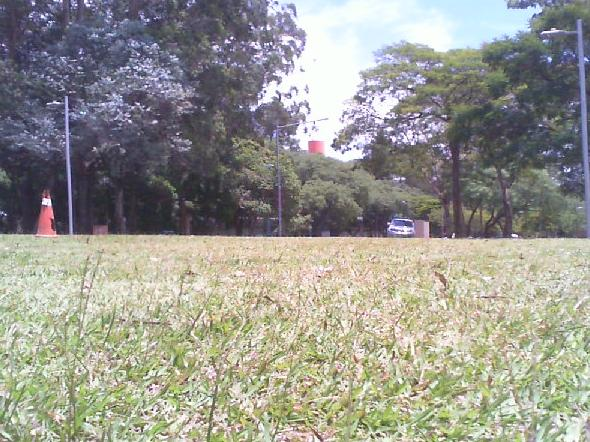0 cone: (35, 189, 57, 237)
